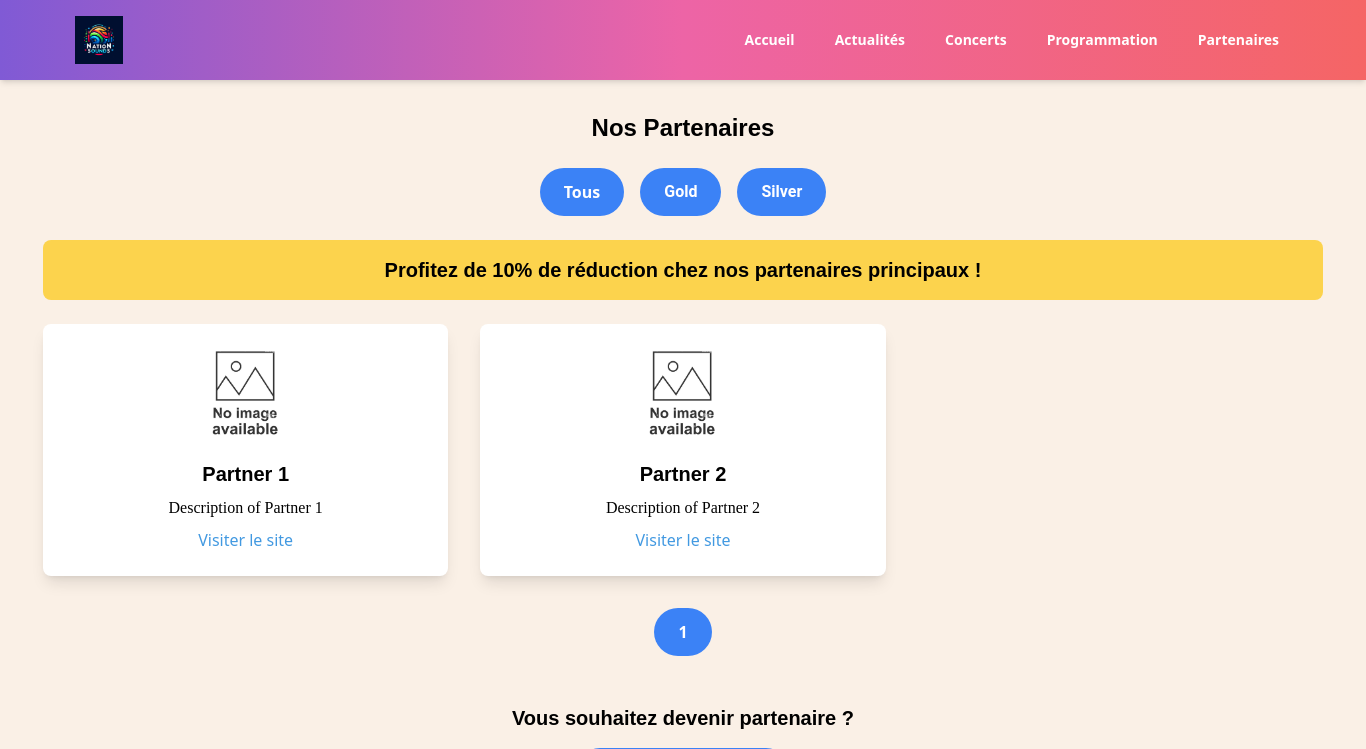
Test: PartnersPage › filters partners by category
The image size is (1366, 749).
Expected: the heading "Partner 1" is shown, [202,463,289,485]
Click the button "Gold": {"x": 681, "y": 192} [640,168,721,216]
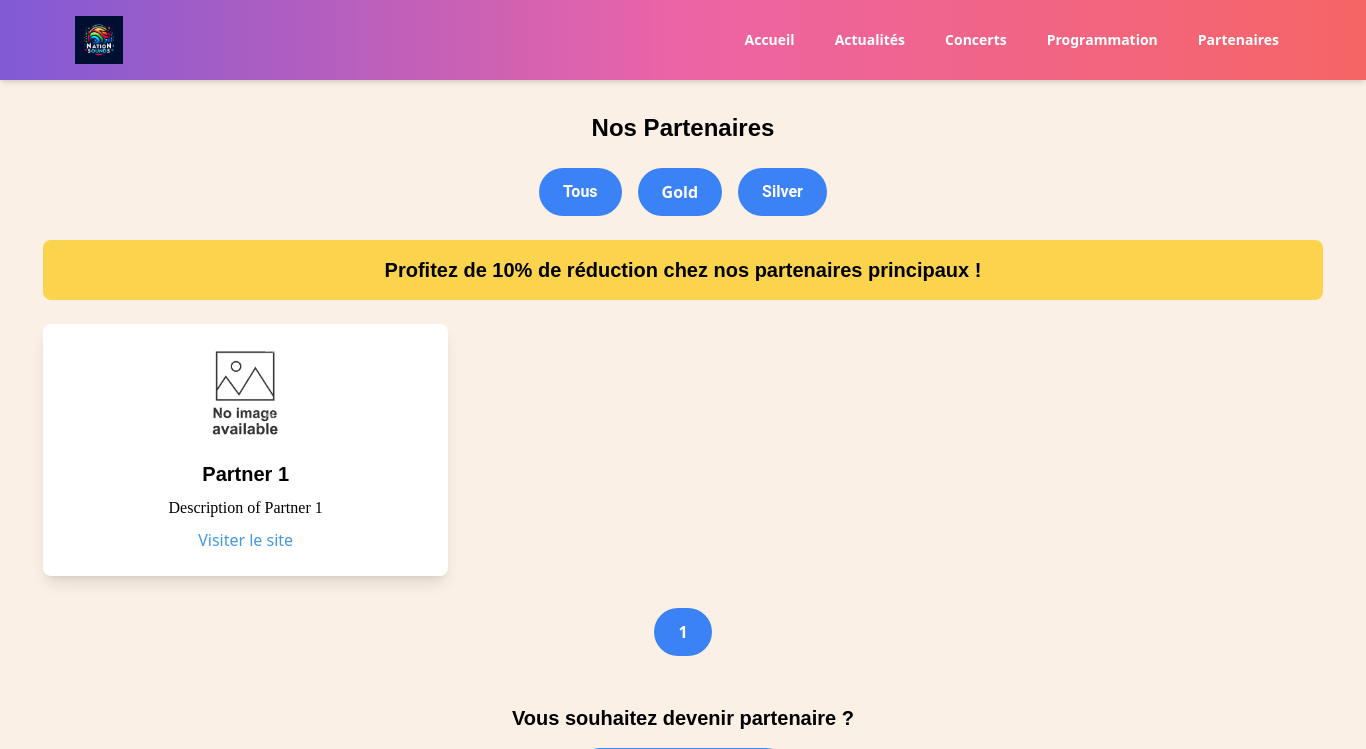
Expected: the heading "Partner 1" is shown, [202,463,289,485]
Result: the heading "Partner 2" is gone
